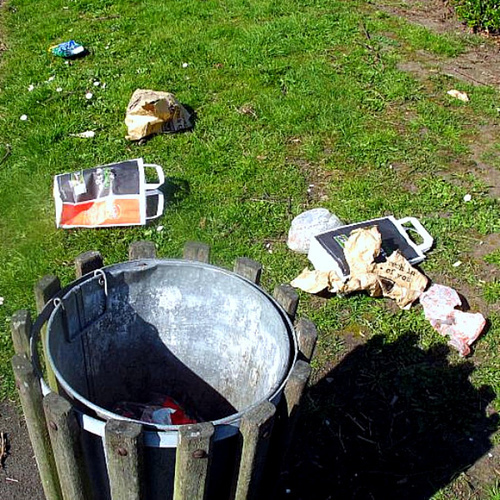litter: (286, 208, 375, 299), (49, 158, 163, 228), (420, 285, 488, 354), (126, 87, 190, 139), (374, 212, 433, 266), (374, 259, 428, 309), (113, 399, 197, 424), (49, 41, 84, 57), (443, 86, 468, 104)
